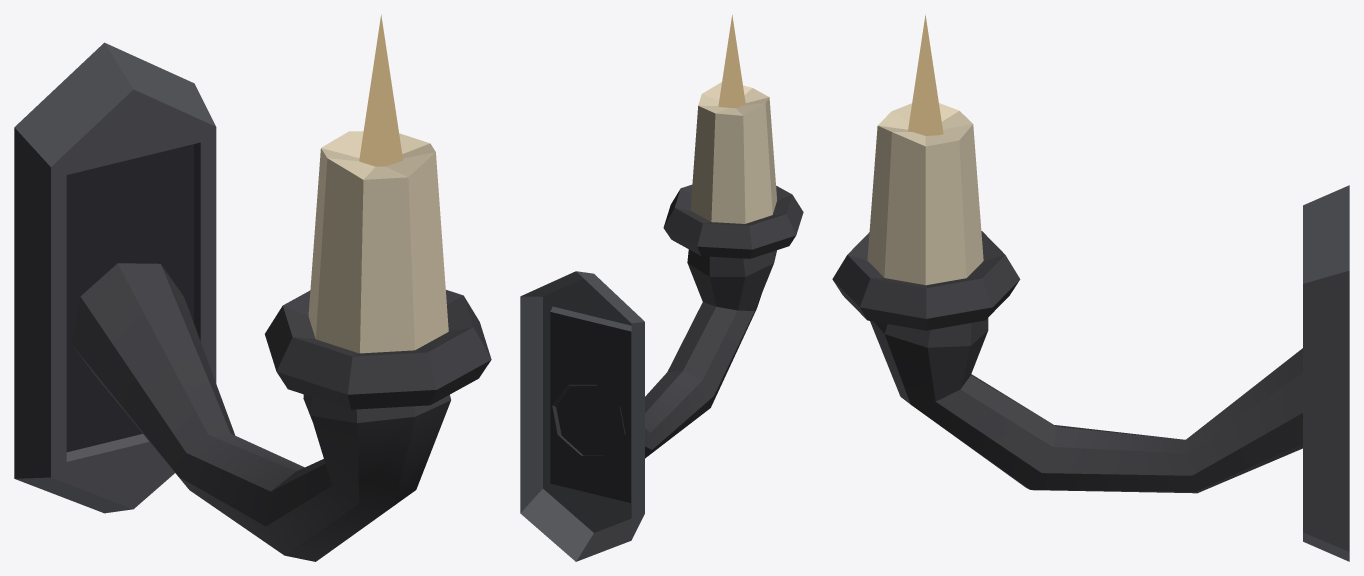
Rendered from Chandelier_1A.fbx.
3 renders of one model, left to right at view 1: azimuth 30°, elevation 25°; view 2: azimuth 150°, elevation 25°; view 3: azimuth 270°, elevation 25°, orthographic. The views are drawn at different scales.
Visible parts, largest first — view 1: Group56001; view 2: Group56001; view 3: Group56001.
Part boxes in pixels (x1,y1,x2,y2): Group56001: (14, 14, 491, 561); Group56001: (520, 15, 803, 561); Group56001: (832, 14, 1349, 561).
Bounding box in the file's own units: 21.91 × 71.06 × 60.28.
